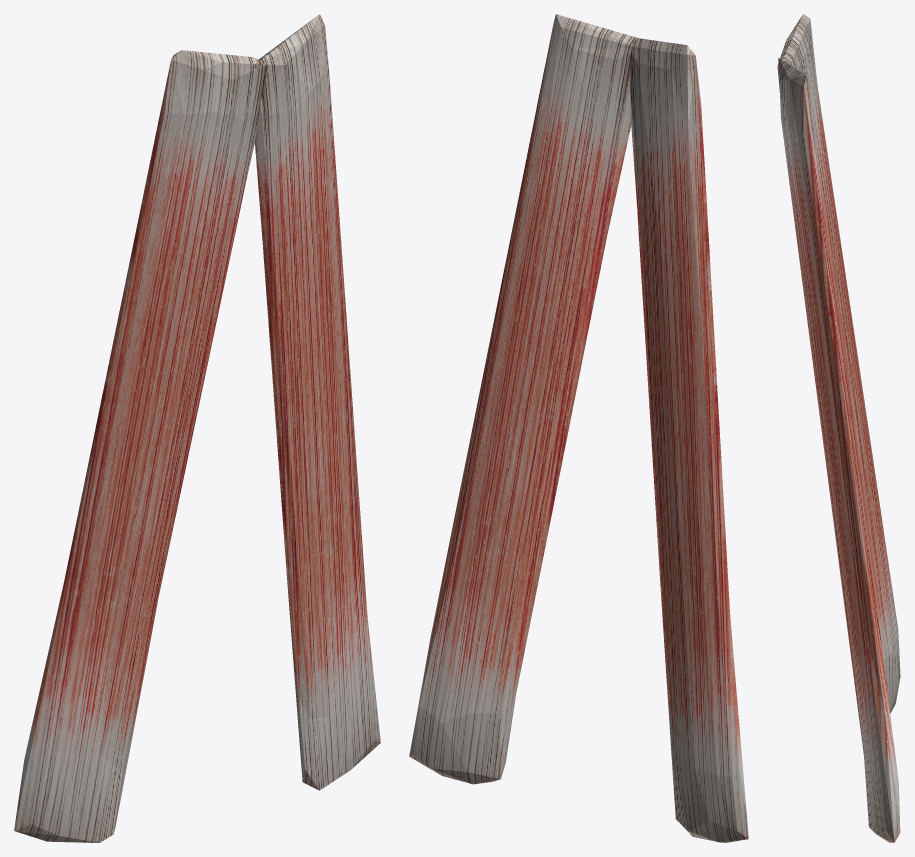
The model's file is Sternohyoid.obj.
3 views of the same model, side by side, from view 1: azimuth 30°, elevation 25°; view 2: azimuth 150°, elevation 25°; view 3: azimuth 270°, elevation 25° (orthographic). The views are drawn at different scales.
Visible parts, largest first — view 1: Musculos_Cabeza_1:Sternohyoid:Sternohyoid; view 2: Musculos_Cabeza_1:Sternohyoid:Sternohyoid; view 3: Musculos_Cabeza_1:Sternohyoid:Sternohyoid.
Boxes of the visible parts, x1=… form: Musculos_Cabeza_1:Sternohyoid:Sternohyoid: x1=14, y1=14, x2=380, y2=842; Musculos_Cabeza_1:Sternohyoid:Sternohyoid: x1=409, y1=14, x2=748, y2=842; Musculos_Cabeza_1:Sternohyoid:Sternohyoid: x1=777, y1=14, x2=900, y2=842.
Size of the model in its own units: 0.1761 by 0.3731 by 0.0564.
1 material, 1 textured.
